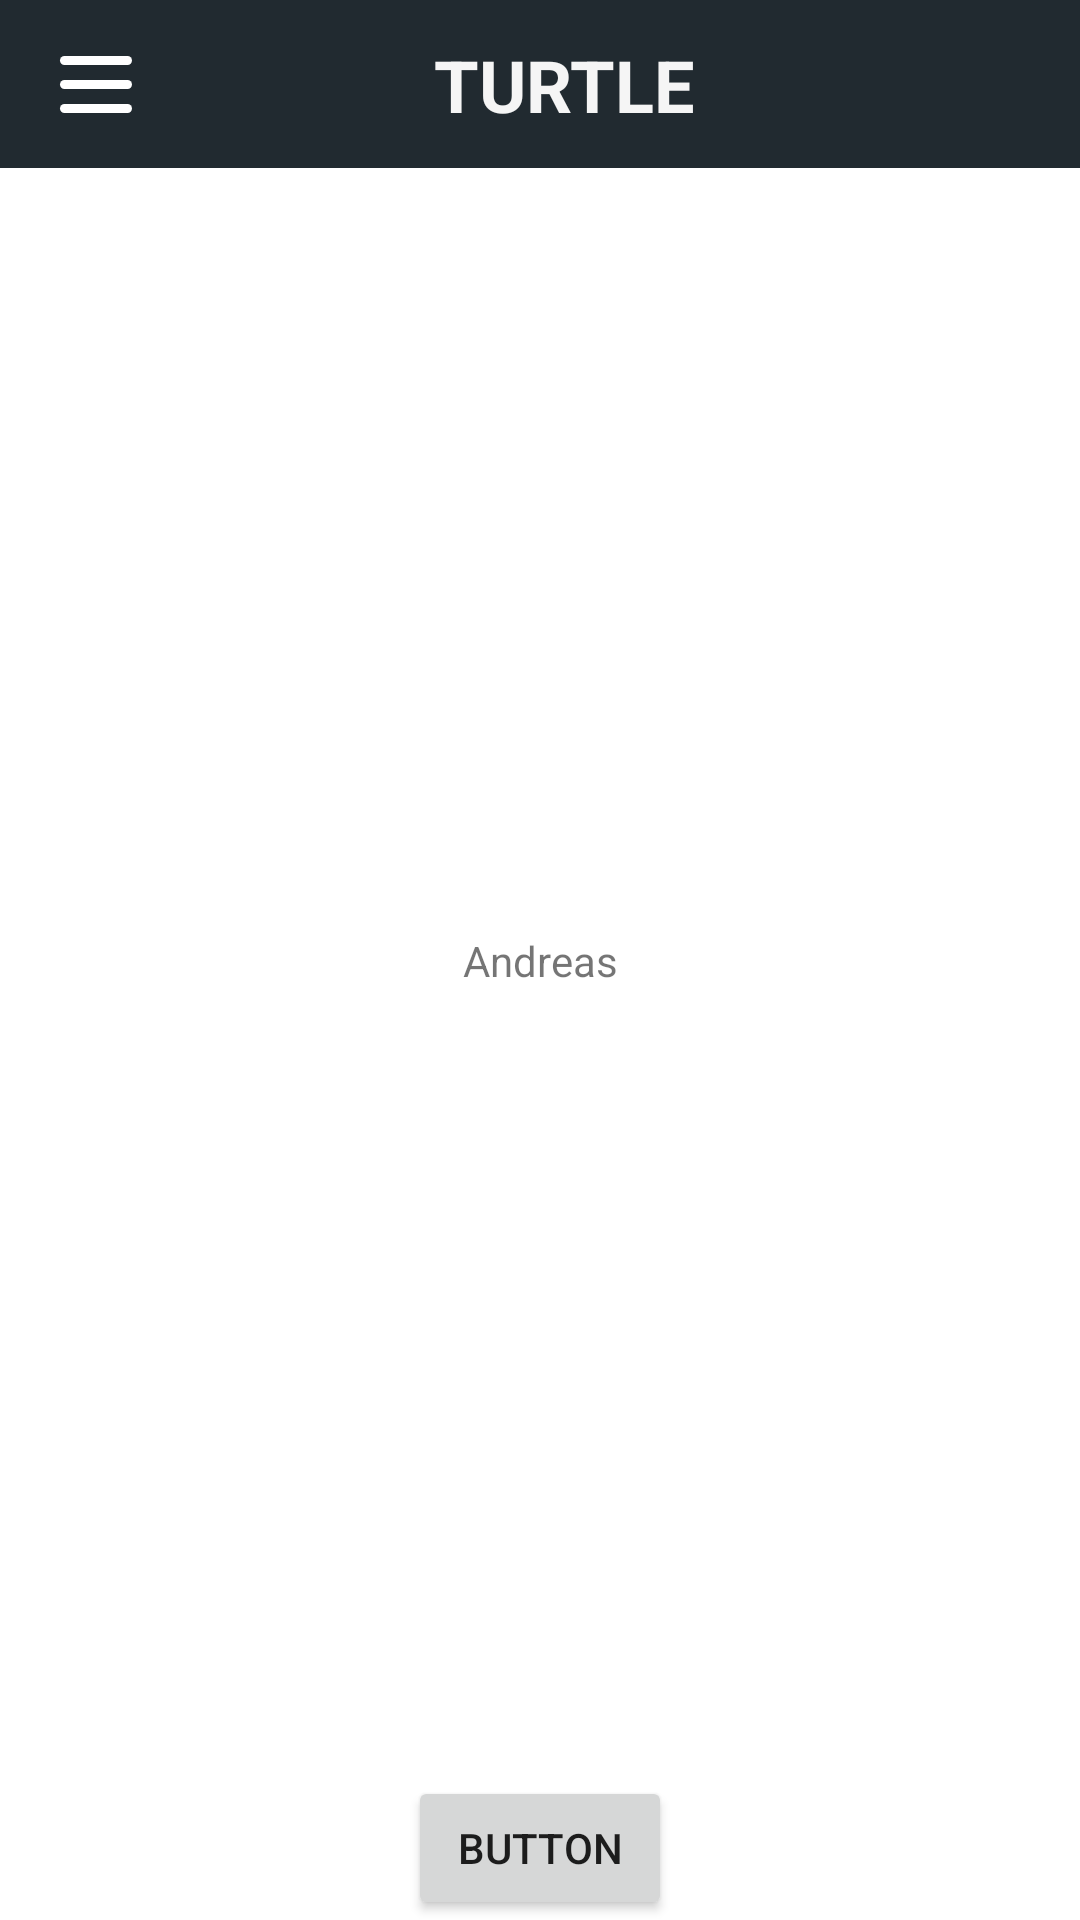

Icons on this 1080w x 1920h Android screen, each with its box as (x1, y1, x2, y2):
Menu button: (60, 56, 132, 113)
